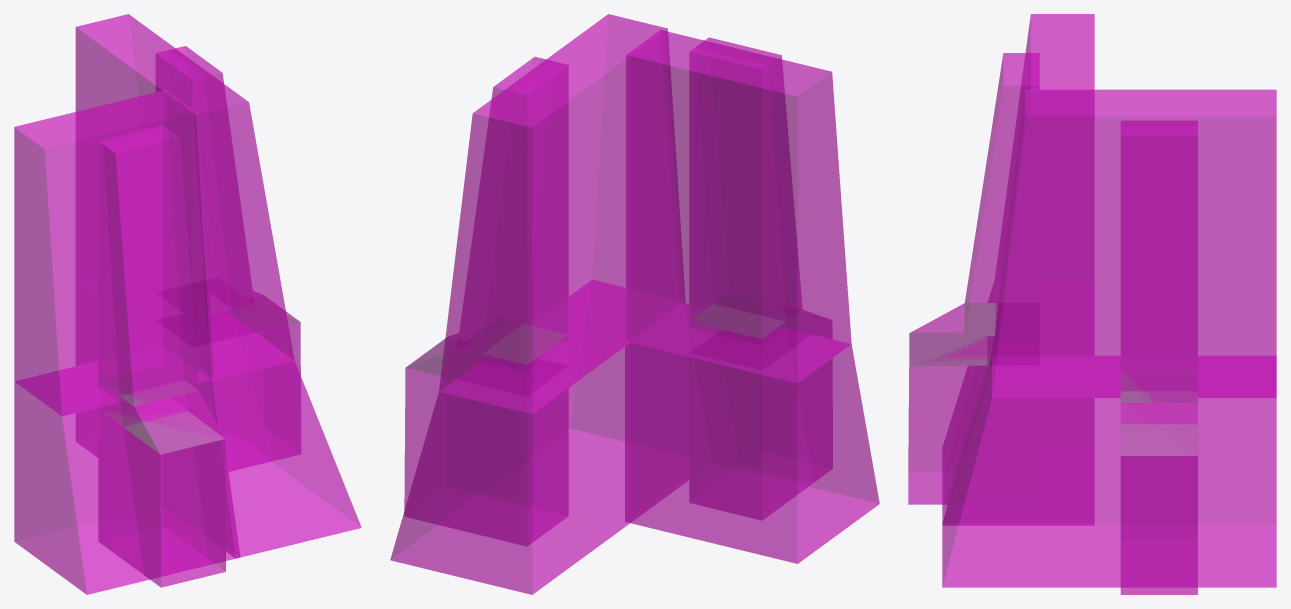
The model's file is SM_Bld_Wall_L_Corner_02_Collision.fbx.
3 views of the same model, side by side, from view 1: azimuth 30°, elevation 25°; view 2: azimuth 150°, elevation 25°; view 3: azimuth 270°, elevation 25° (orthographic). The views are drawn at different scales.
Visible parts, largest first — view 1: SM_Bld_Wall_L_Corner_02_Collision; view 2: SM_Bld_Wall_L_Corner_02_Collision; view 3: SM_Bld_Wall_L_Corner_02_Collision.
Boxes of the visible parts, bbox=[...] form: SM_Bld_Wall_L_Corner_02_Collision: bbox=[14, 14, 361, 594]; SM_Bld_Wall_L_Corner_02_Collision: bbox=[390, 14, 879, 594]; SM_Bld_Wall_L_Corner_02_Collision: bbox=[908, 14, 1276, 594].
Bounding box in the file's own units: 460 × 608 × 469.
